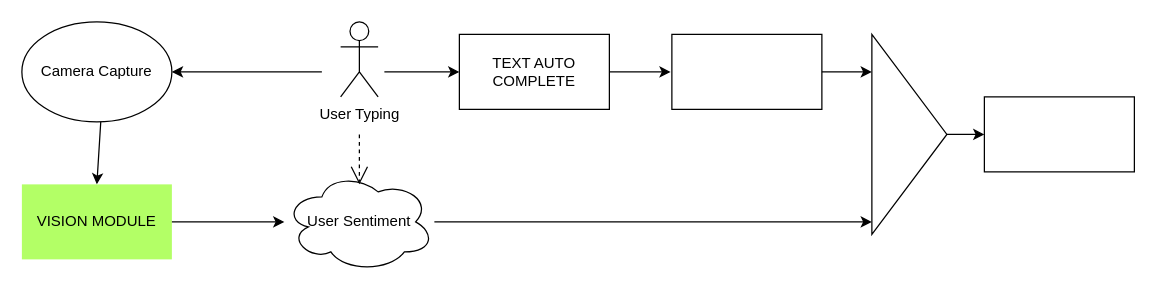
This 1156x294 diagram has some shape labels left out. The shapes that lost their labels are listed below. From the top down, each one's box as (x1, y1, x2, y2) in pixels, then its label:
(671, 33, 822, 109): TEXT SENTIMENT ANALYSIS
(983, 96, 1134, 172): User mood specific suggestions.
